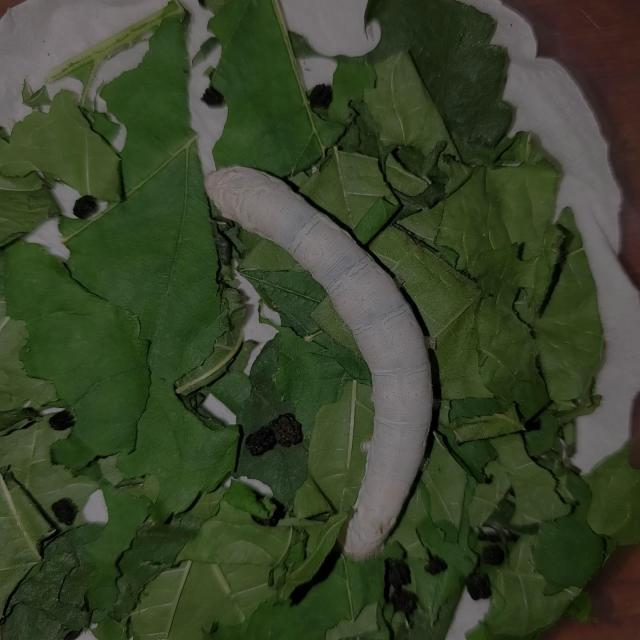Healthy: (194, 157, 444, 566)
